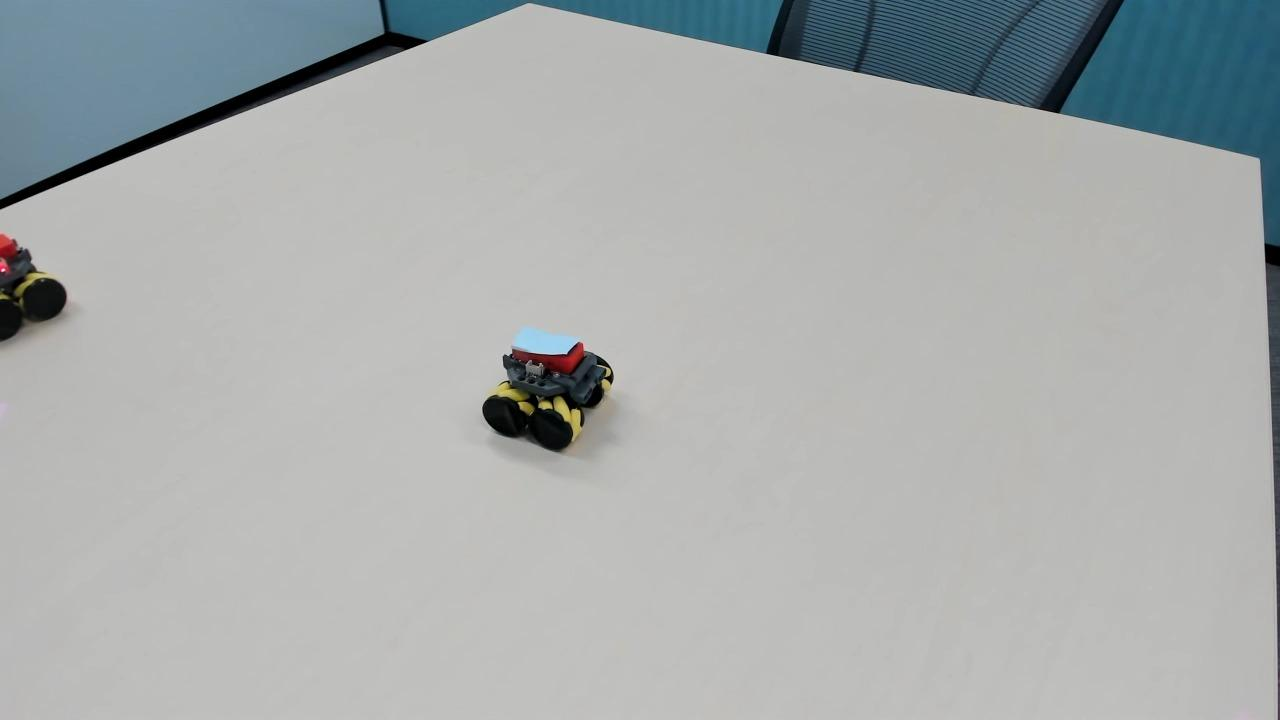B-Robot: (470, 316, 628, 458)
R-Robot: (0, 211, 79, 354)
